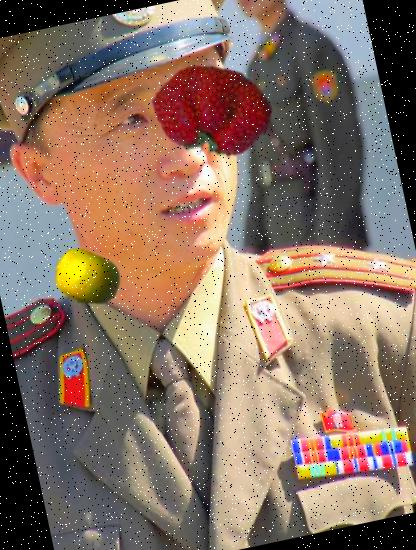Pomelo: (48, 239, 127, 318)
Strawberry: (139, 41, 281, 183)
